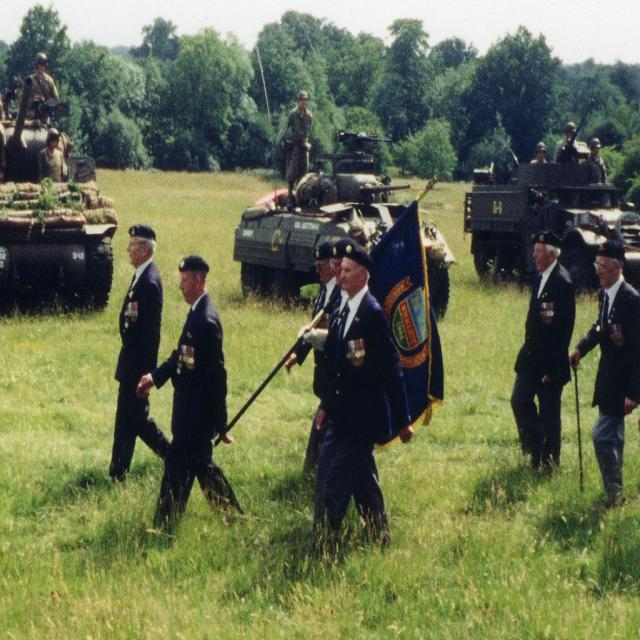tank: (234, 42, 456, 318), (463, 98, 639, 290), (0, 69, 118, 319)
